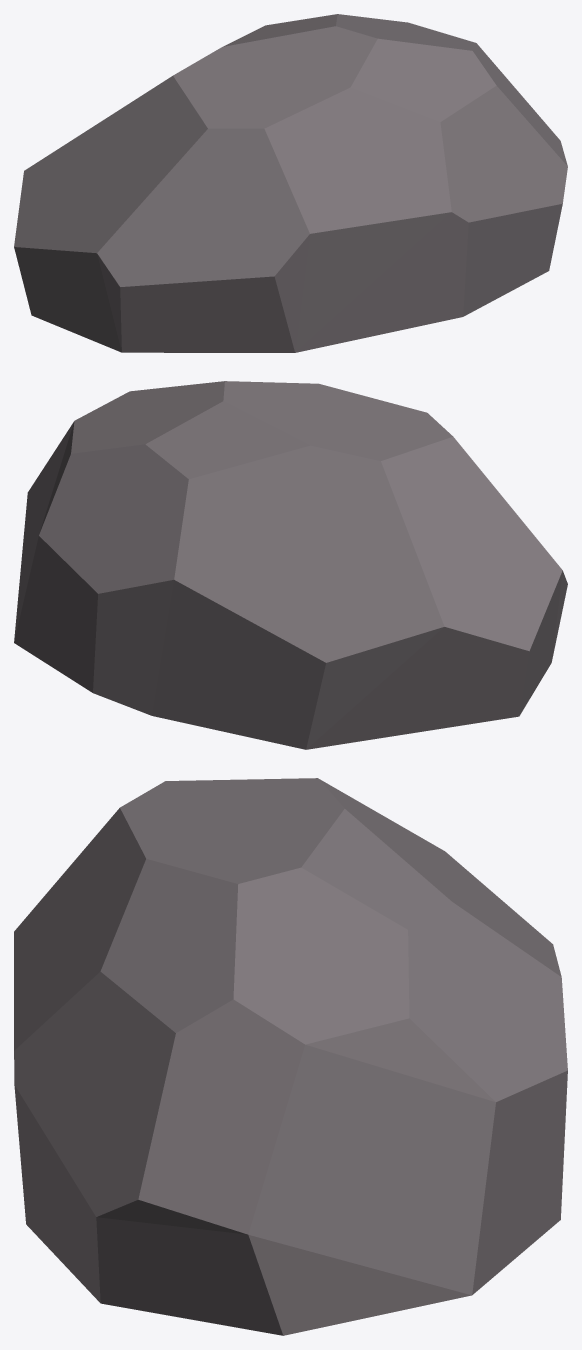
Rendered from Rock_Round_l_08.fbx.
The picture shows the model from 3 angles, top to bottom: view 1: azimuth 30°, elevation 25°; view 2: azimuth 150°, elevation 25°; view 3: azimuth 270°, elevation 25°; orthographic projection. The views are drawn at different scales.
Visible parts, largest first — view 1: Rock_Round_l_08; view 2: Rock_Round_l_08; view 3: Rock_Round_l_08.
Part boxes in pixels (box(x1,y1,x2,y2)): Rock_Round_l_08: box(14, 14, 567, 352); Rock_Round_l_08: box(14, 381, 567, 749); Rock_Round_l_08: box(14, 778, 567, 1335).
Bounding box in the file's own units: 3.39 × 1.63 × 2.17.
